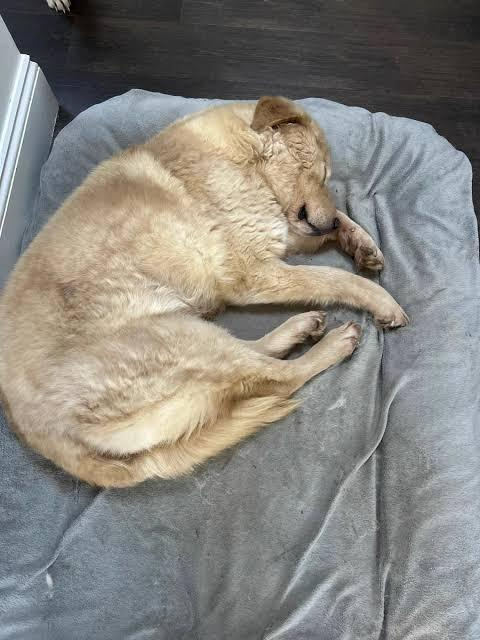adult_dog: (0, 94, 409, 490)
